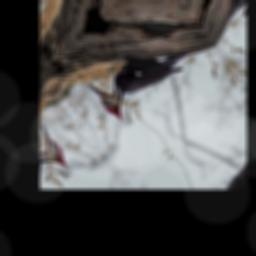Woodpecker: (86, 18, 195, 126)
